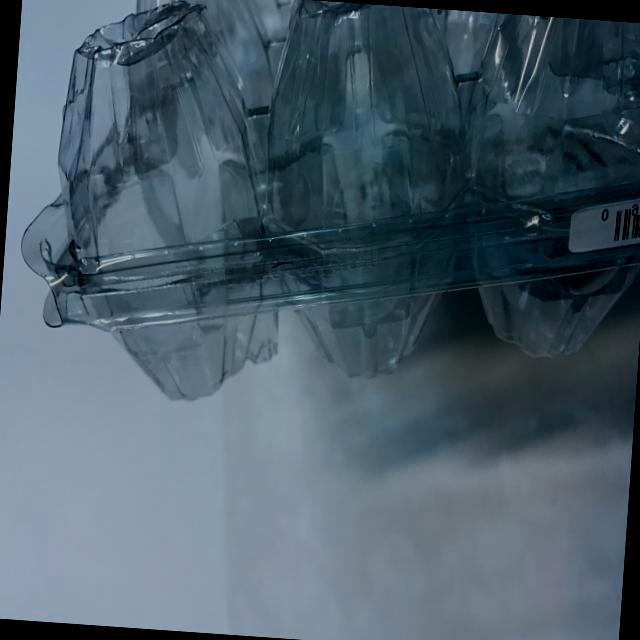plastic: (4, 0, 640, 466)
